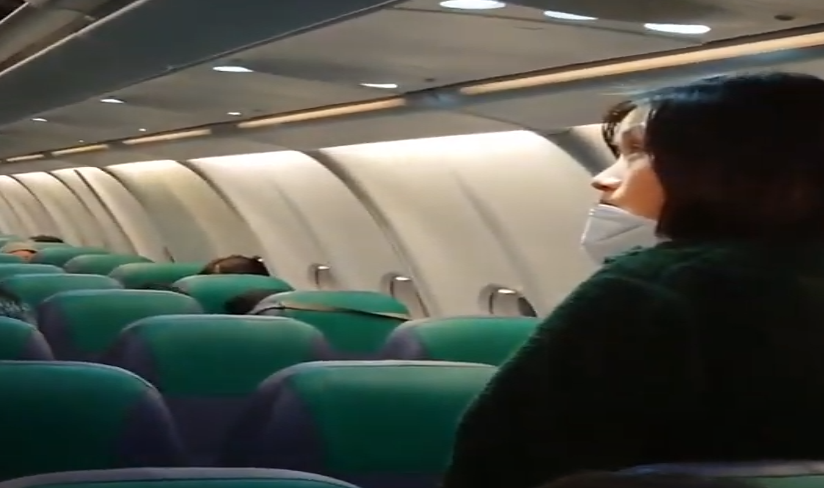mask_weared_incorrect: (574, 68, 766, 265)
